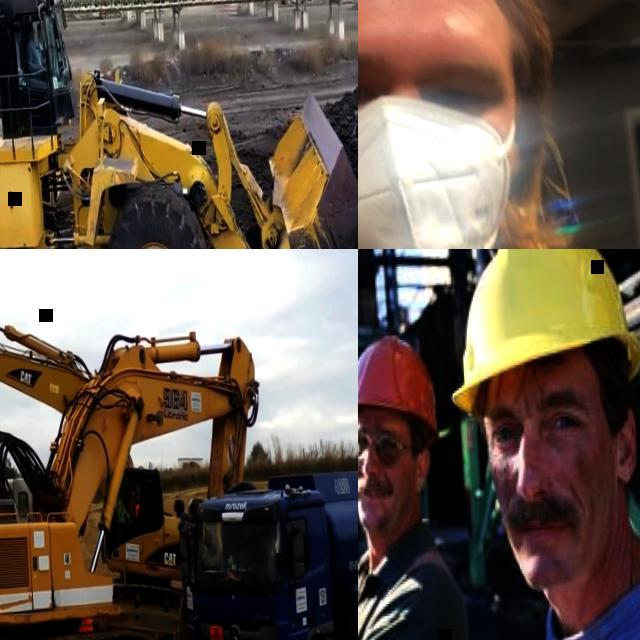Helmet: (451, 238, 640, 419), (358, 327, 436, 441)
Robbery: (452, 248, 640, 640), (358, 1, 572, 248), (356, 320, 472, 640)
